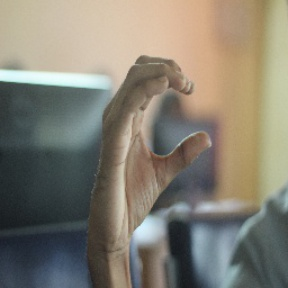C: (115, 53, 217, 175)
